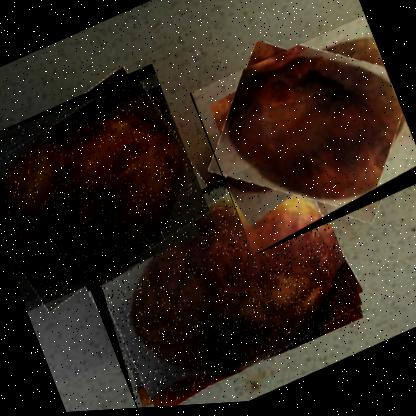guava_rotten: (71, 144, 367, 412), (187, 16, 415, 261), (0, 59, 217, 313)
